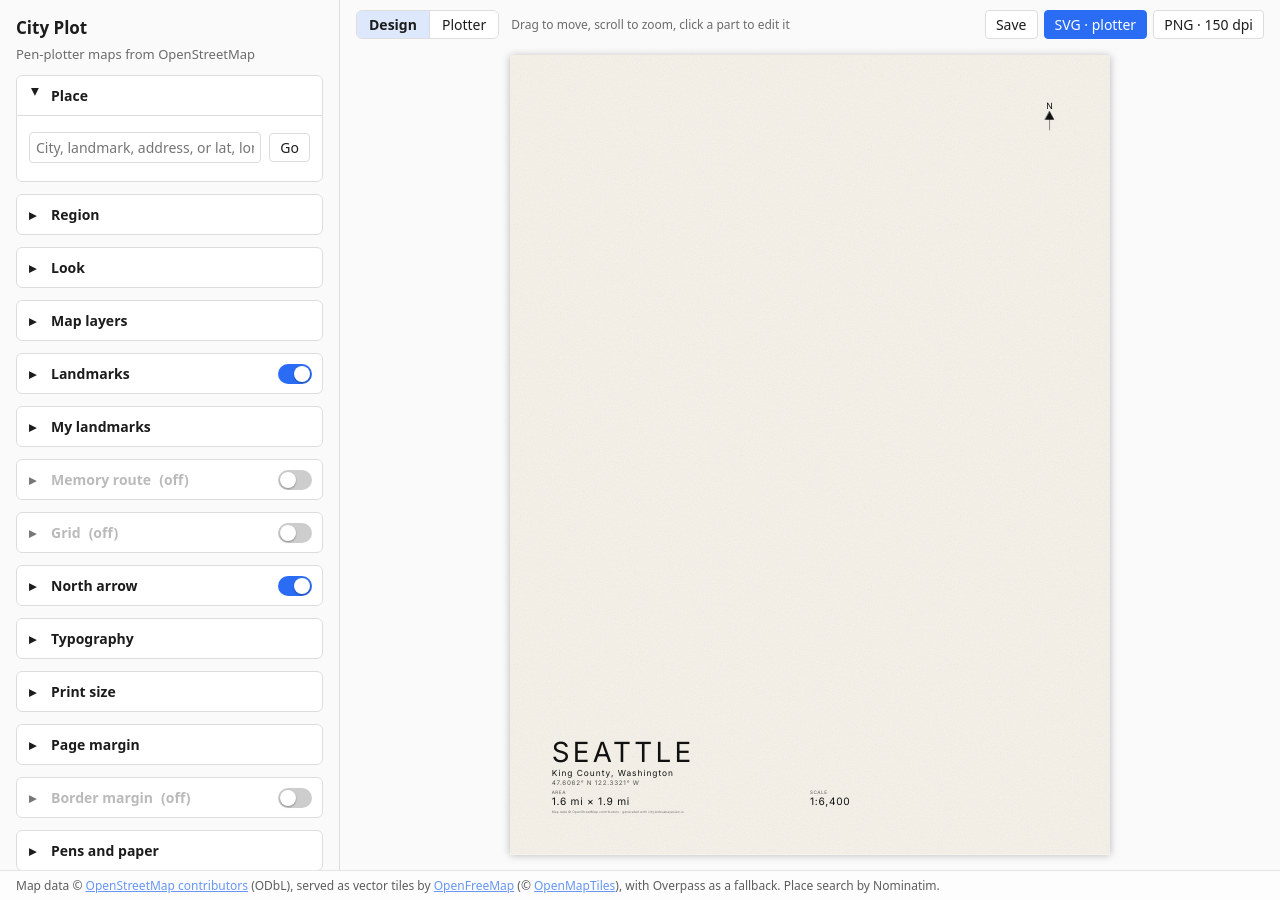
the editor renders › the header switch turns a part off, and its body says so
Click the switch named "Show north arrow".
click(295, 586)  # box [278,576,312,596]
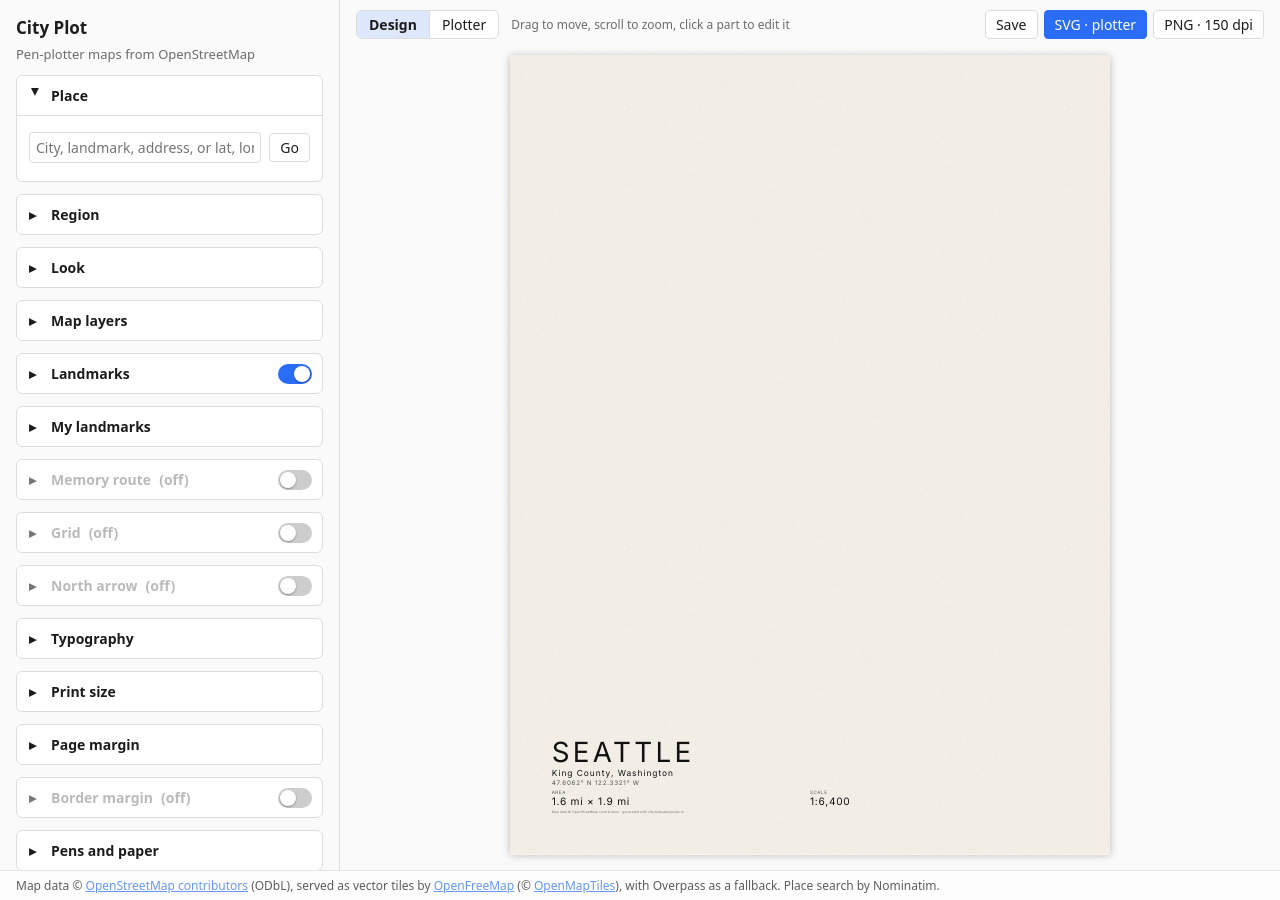
Check: the element with id "group-north" has class "off", box [16,565,323,606]
